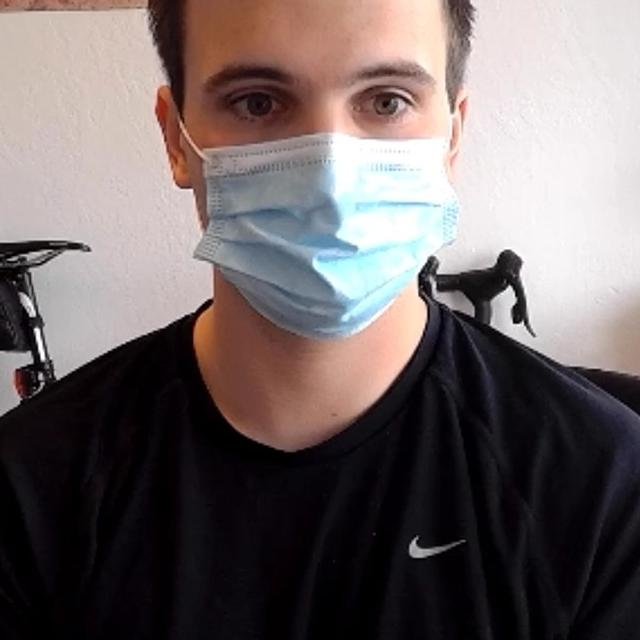Mask: (153, 91, 459, 345)
NO-Safety Vest: (0, 308, 594, 640)
Person: (0, 0, 640, 640)
